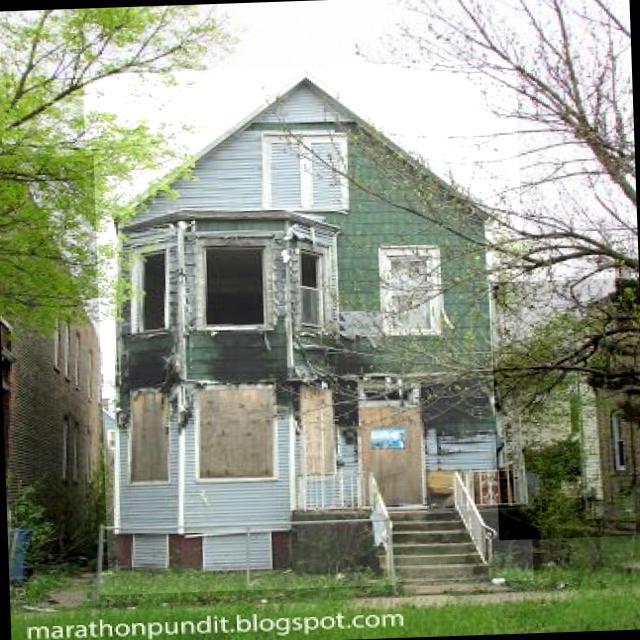House: (82, 59, 533, 595), (0, 155, 108, 576), (489, 277, 640, 540)
